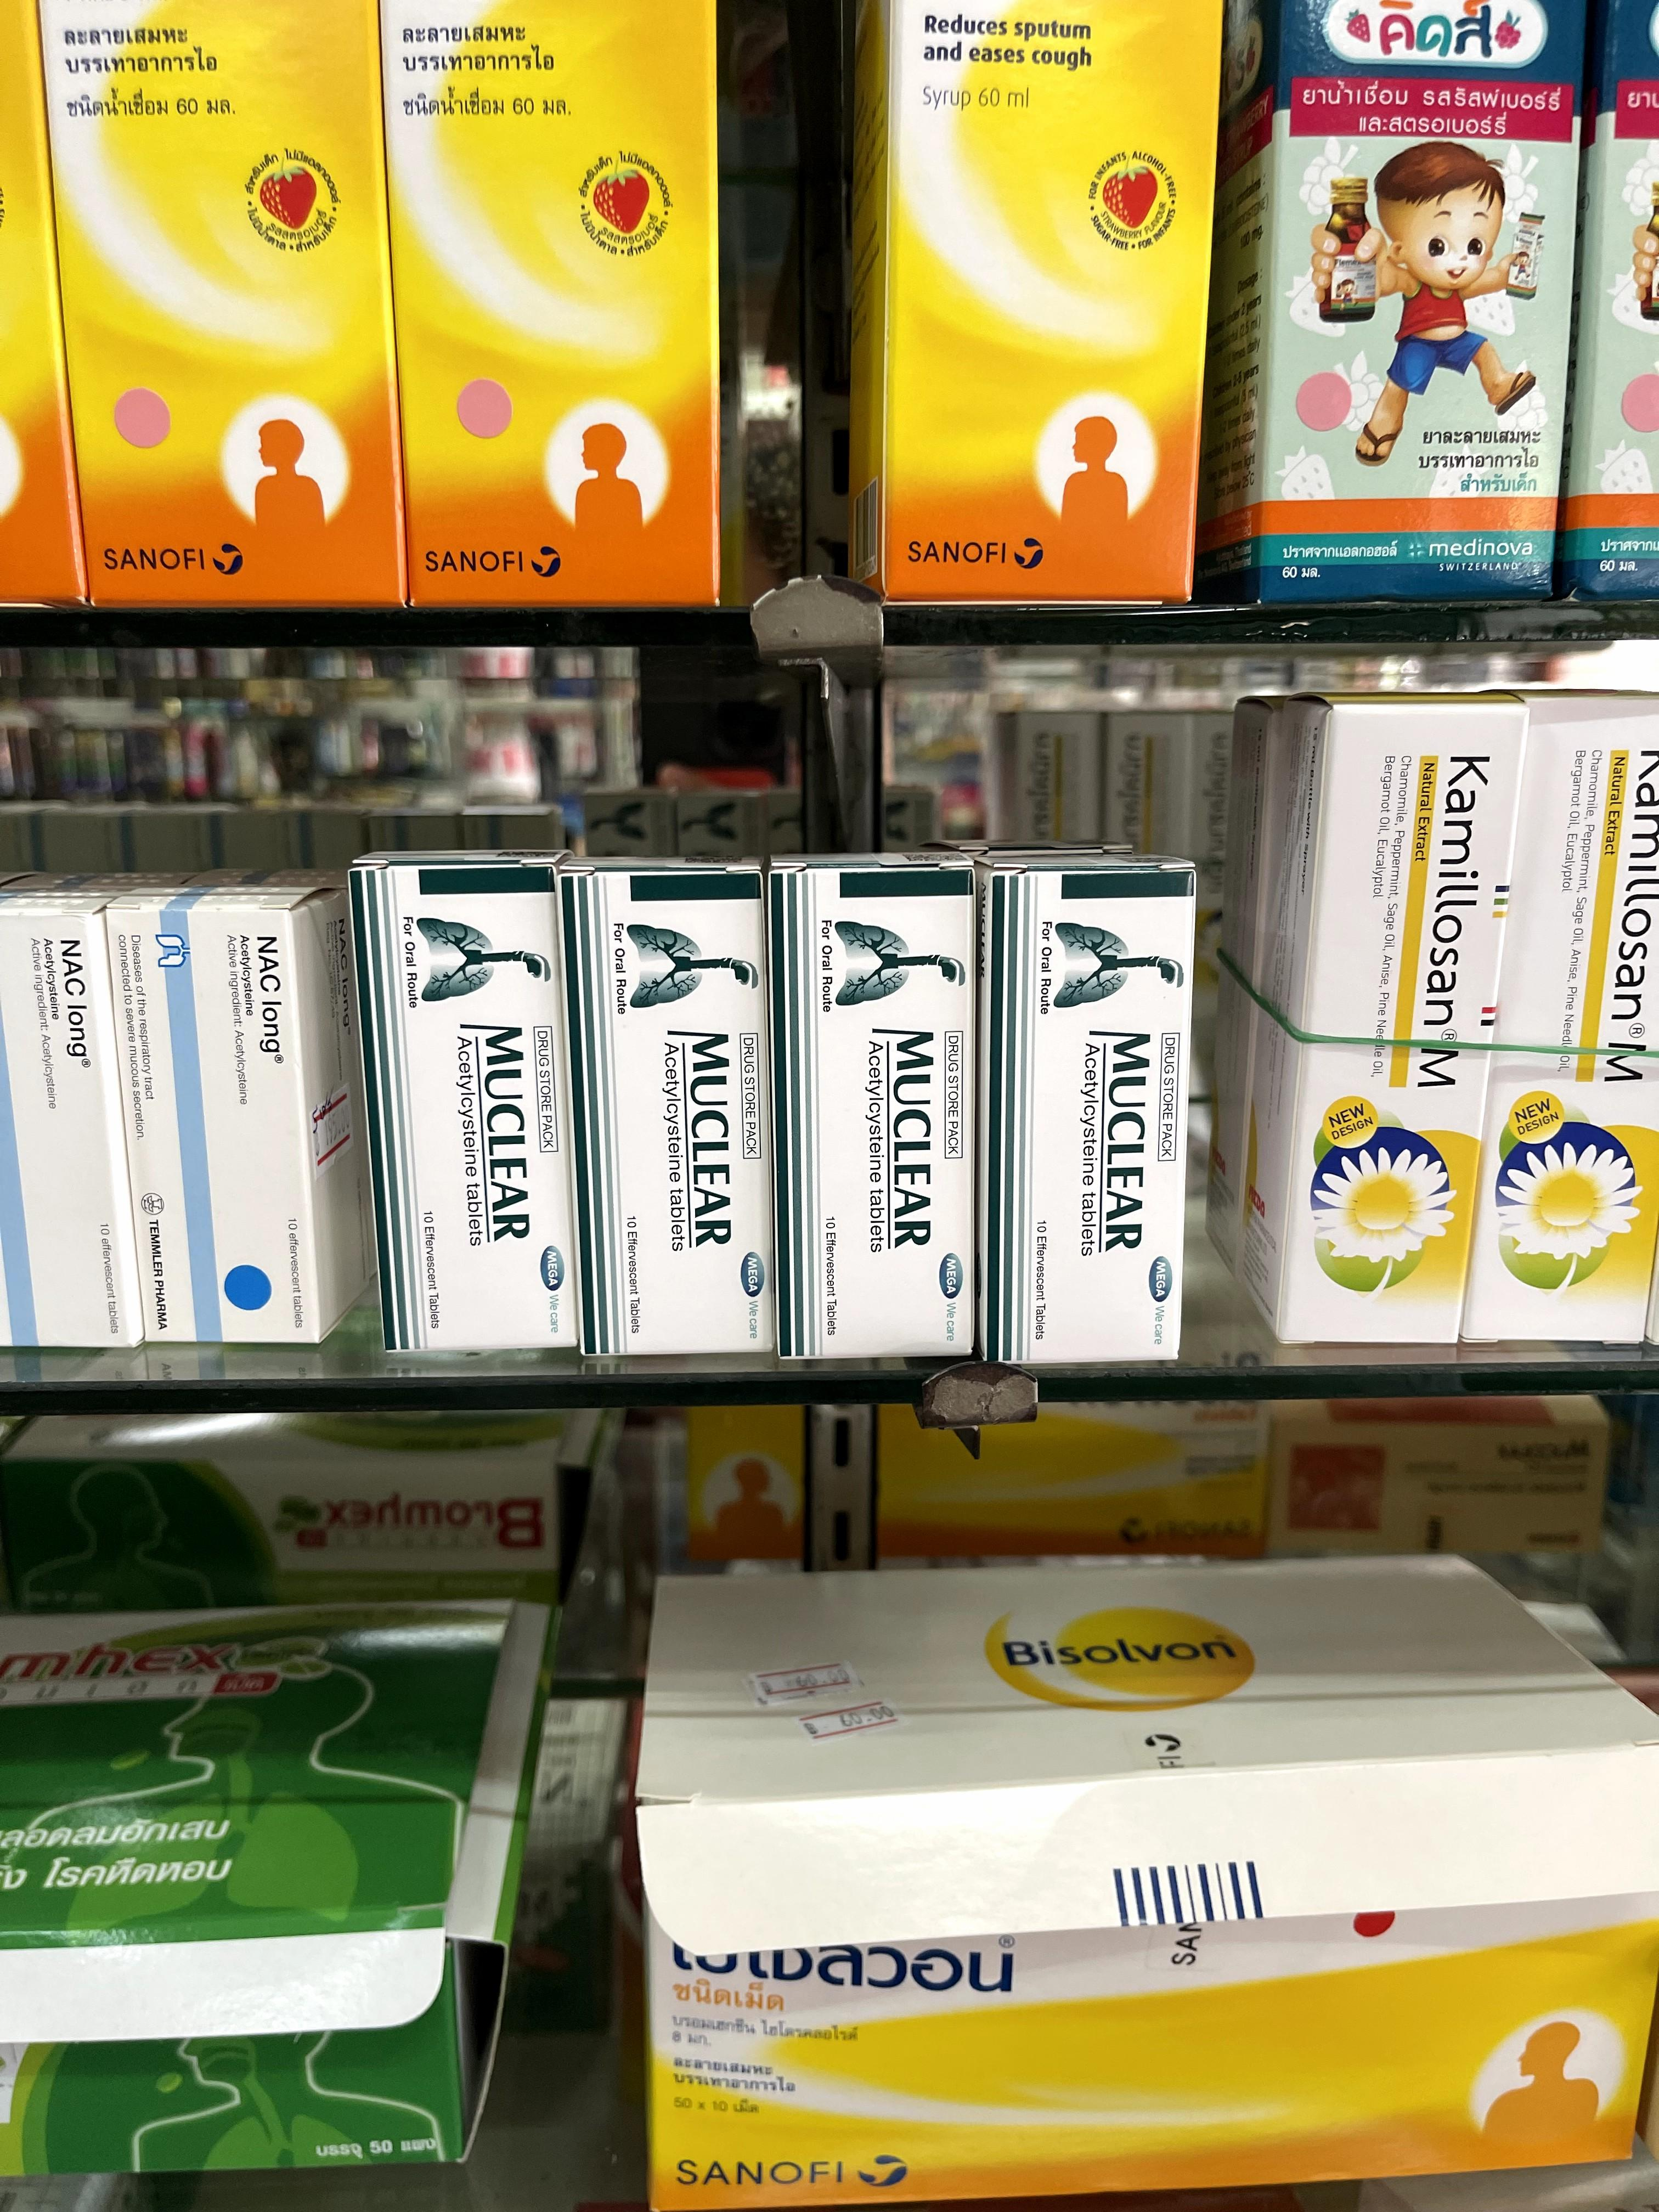Muclear: (357, 848, 584, 1350), (565, 850, 784, 1350), (979, 848, 1190, 1366), (774, 859, 985, 1364)
Nac-Long: (105, 878, 359, 1345), (0, 874, 143, 1339)
